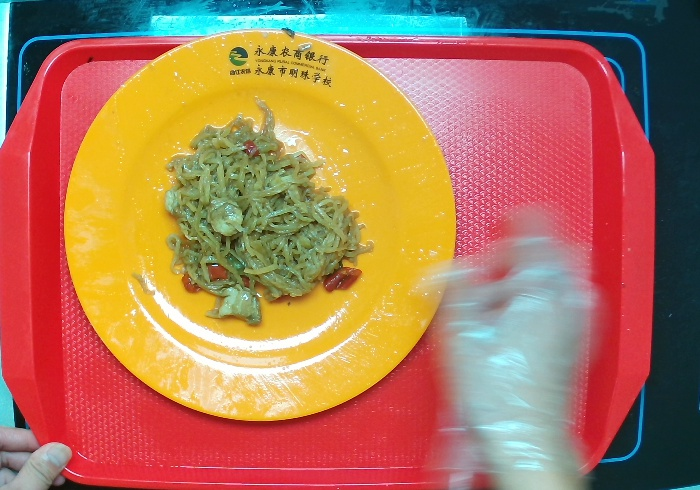YKMZ-Ju_Se_Mian_Pan: (60, 28, 459, 422)
